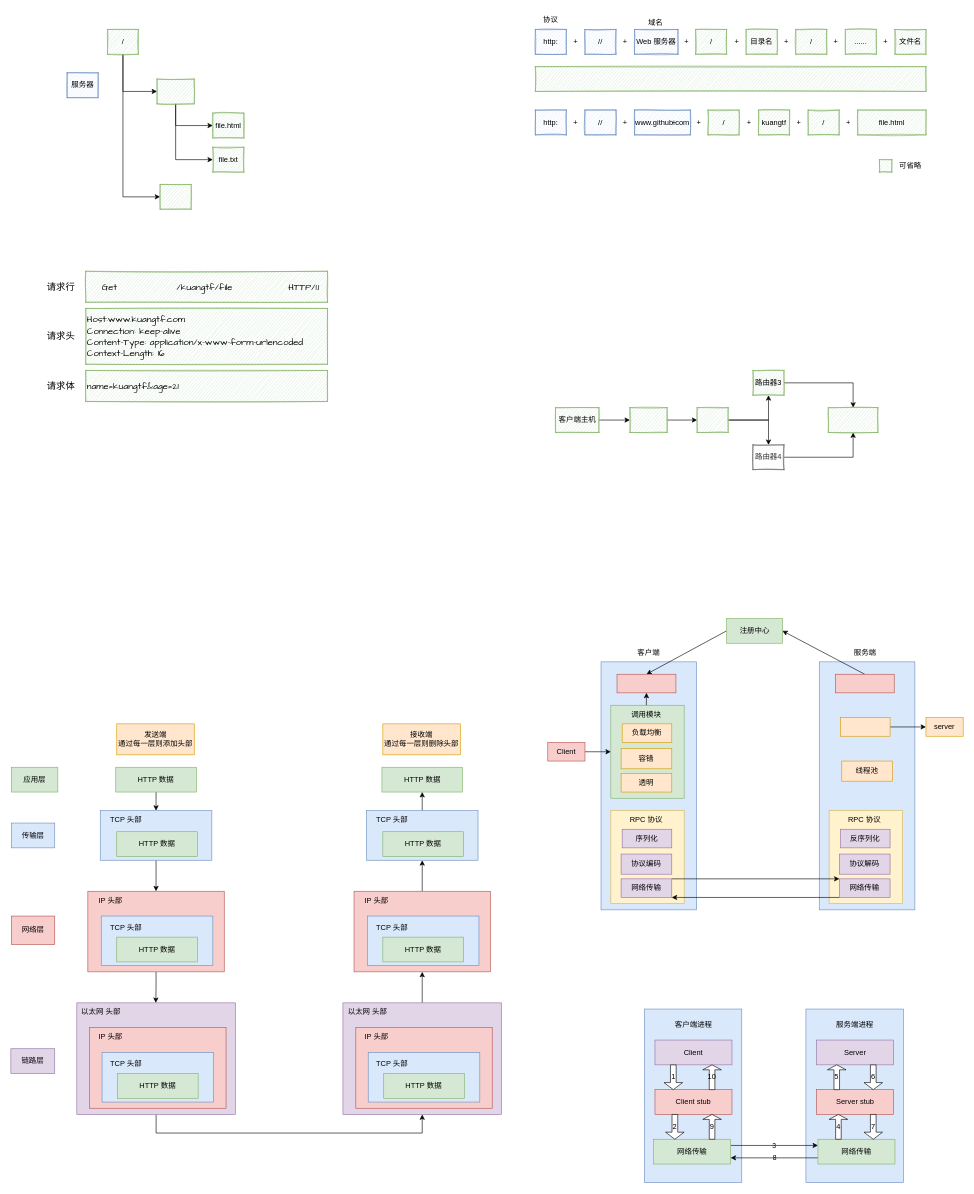
Image size: 974x1194. Some labels were removed from this diagram. Here are the shapes that lost their labels. From the top down, the centre of each, then its label:
At (x=175, y=91): "kuangtf/".
At (x=730, y=78): "http://www.github.com/kuangtf/file.html".
At (x=175, y=196): "kuangty/".
At (x=648, y=419): "路由器1".
At (x=712, y=419): "路由器2".
At (x=853, y=419): "目标服务器".
At (x=646, y=683): "服务发现".
At (x=864, y=683): "服务注册".
At (x=865, y=726): "处理程序".
